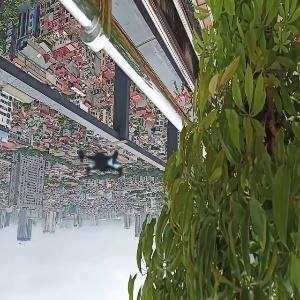drone: (55, 115, 151, 211)
